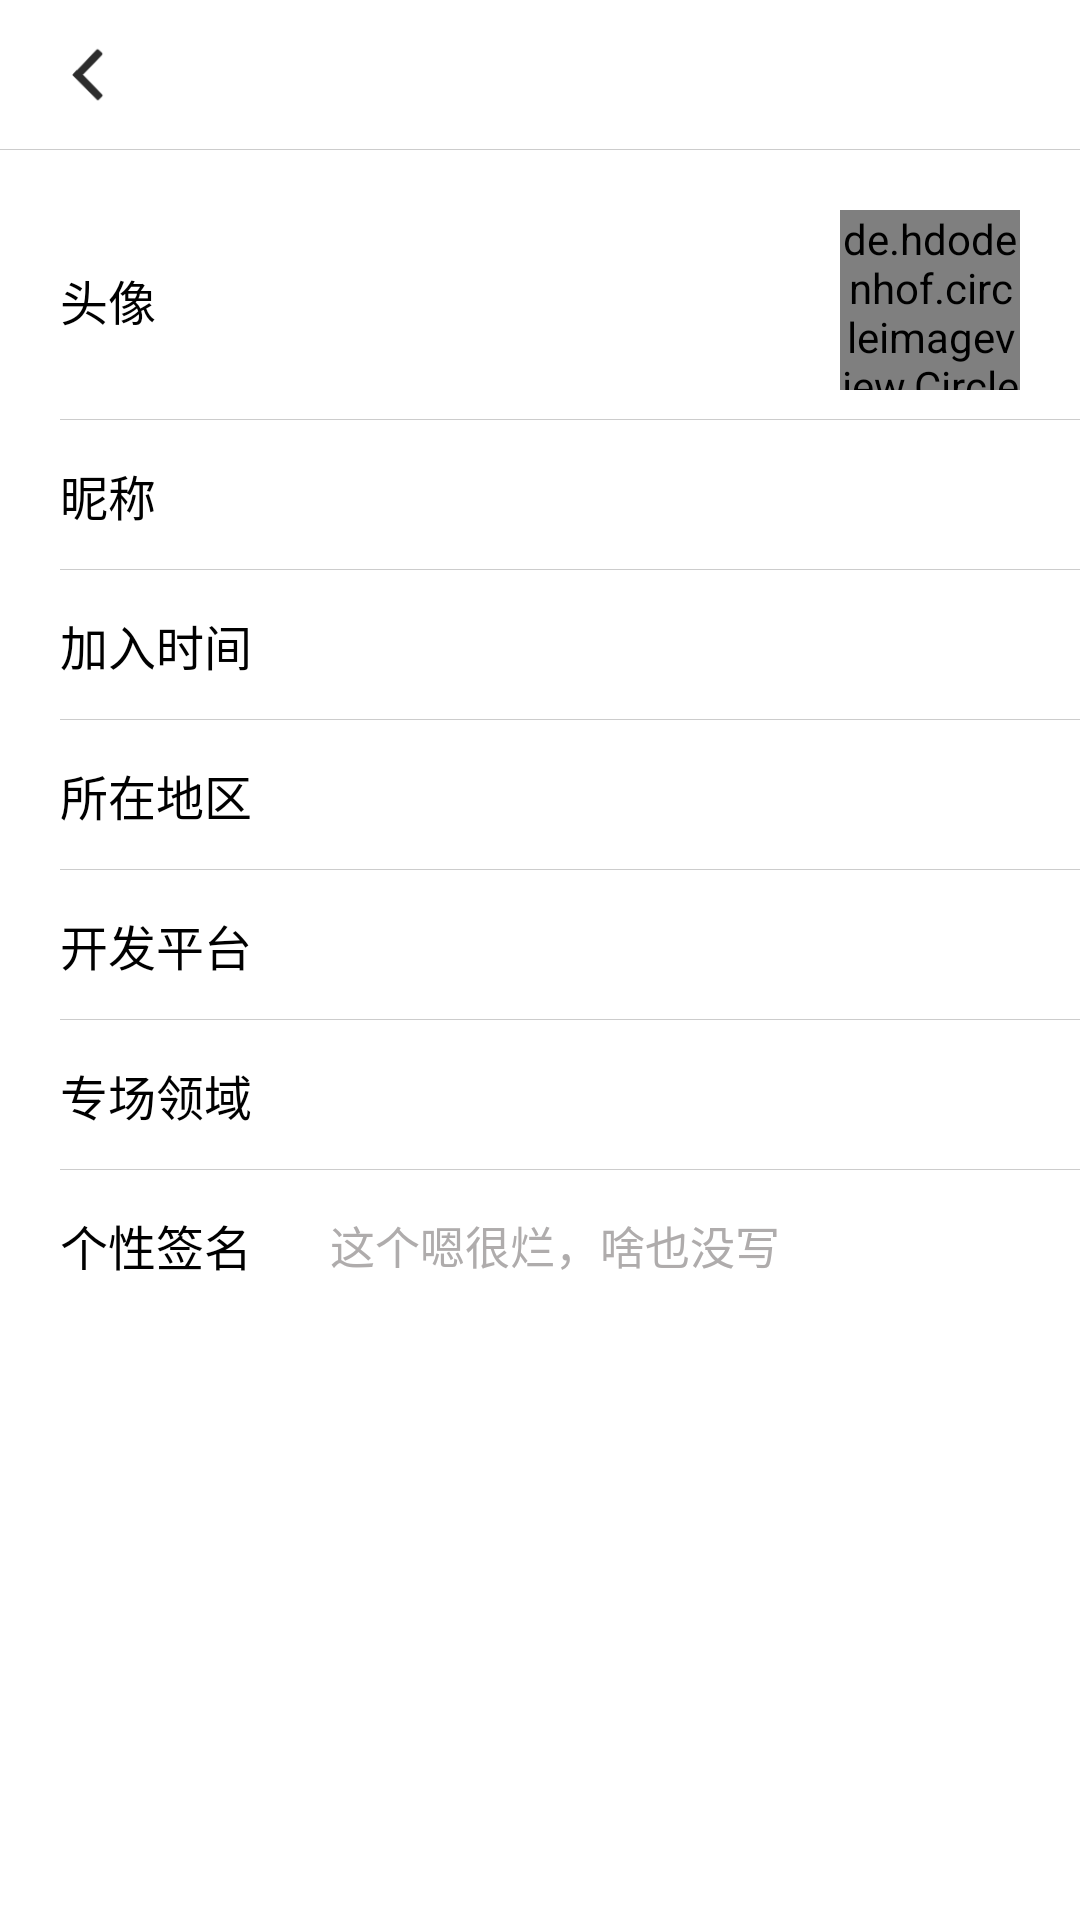

Named icons in this screenshot (1080x1920) and their centers, point (x, y):
back: point (87, 75)
